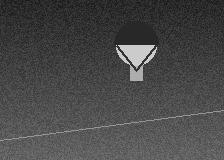helmet: (114, 21, 158, 70)
